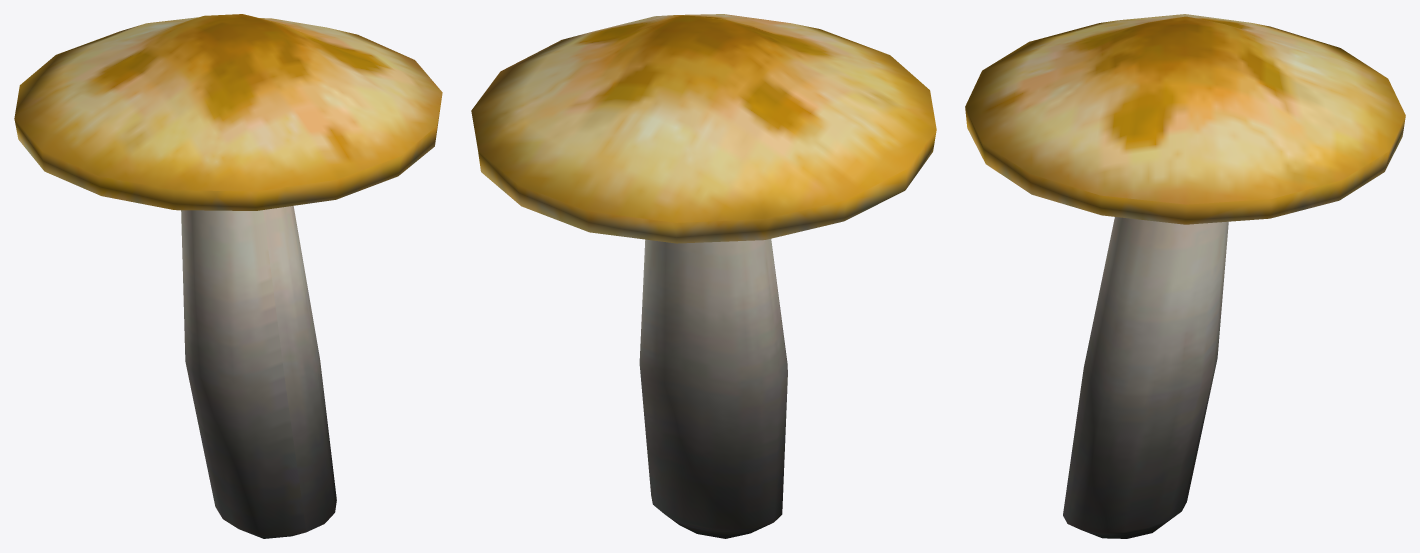
File: INST_TROLLHOLE_SHROOMC2.fbx
3 views of the same model, side by side, from view 1: azimuth 30°, elevation 25°; view 2: azimuth 150°, elevation 25°; view 3: azimuth 270°, elevation 25° (orthographic). The views are drawn at different scales.
Parts seen in each view (by area): view 1: INST_TROLLHOLE_SHROOMC2; view 2: INST_TROLLHOLE_SHROOMC2; view 3: INST_TROLLHOLE_SHROOMC2.
Boxes of the visible parts, box(x1,y1,x2,y2) form: INST_TROLLHOLE_SHROOMC2: box(14, 14, 442, 538); INST_TROLLHOLE_SHROOMC2: box(471, 14, 936, 538); INST_TROLLHOLE_SHROOMC2: box(965, 14, 1405, 538).
Bounding box in the file's own units: 8779 × 10840 × 8776.
1 material, 1 textured.
